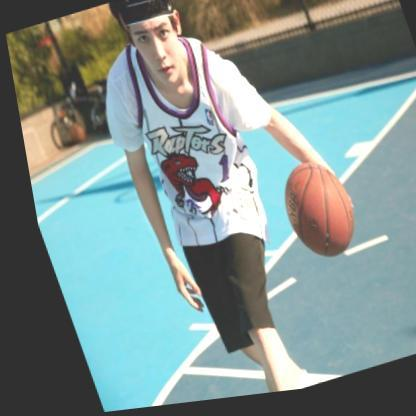basketball: (265, 160, 358, 273)
